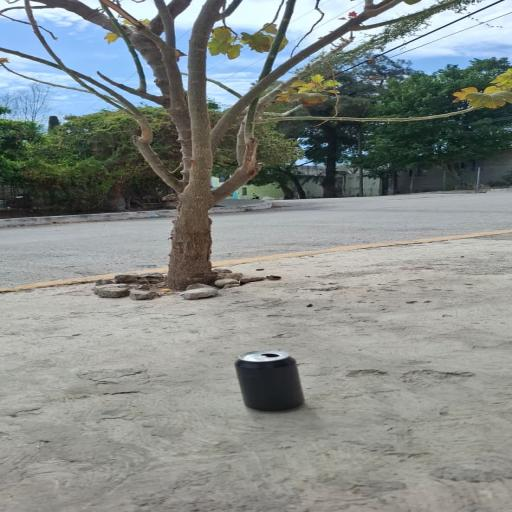LATA: (208, 348, 342, 422)
